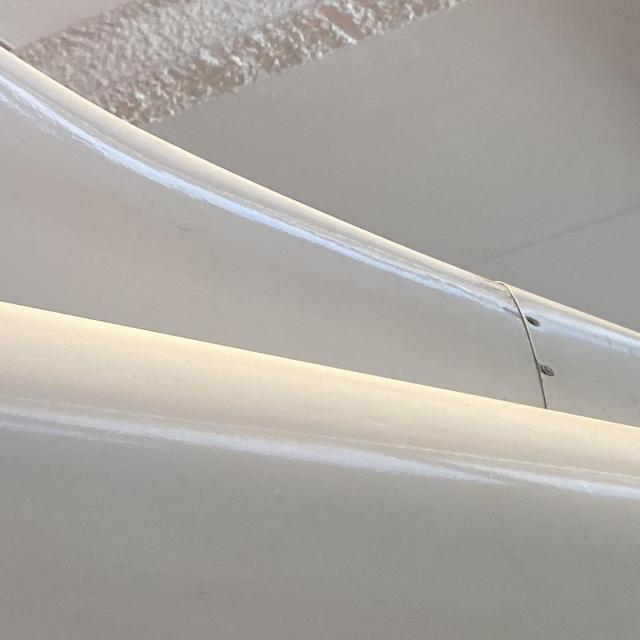Missing-head: (524, 314, 543, 330)
